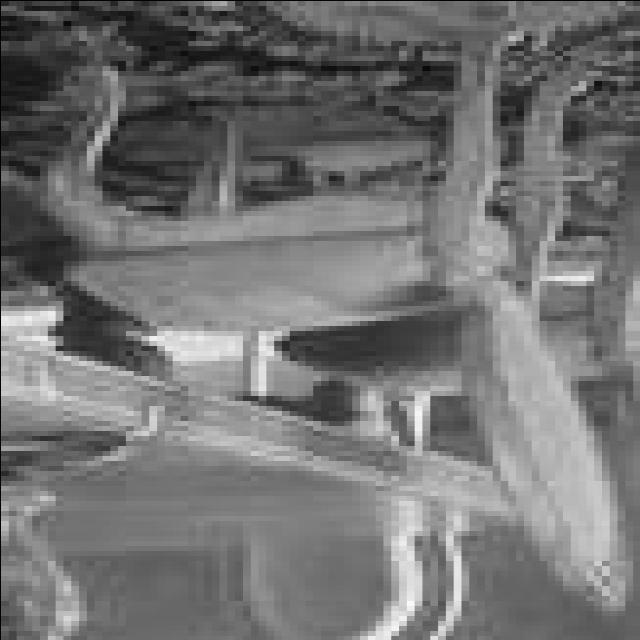chair: (43, 34, 629, 606), (199, 326, 463, 639)
